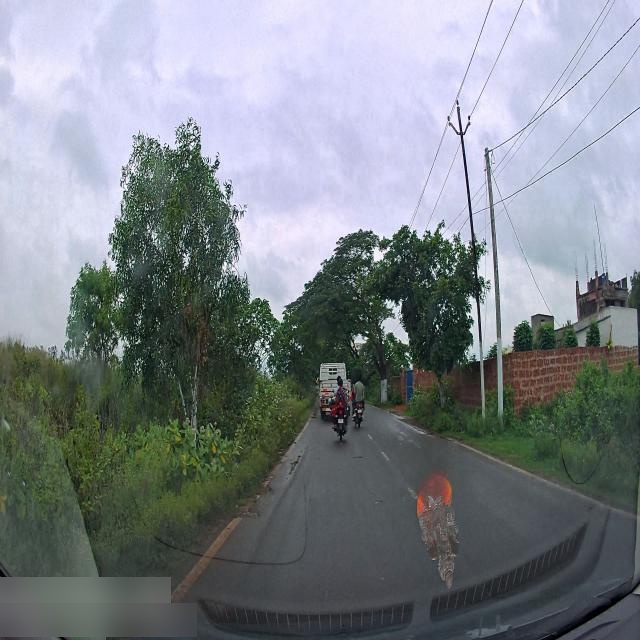pothole: (289, 447, 304, 477)
